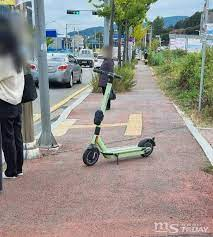guide_blocks: (124, 111, 143, 136), (52, 117, 77, 135)
kick_board: (83, 69, 155, 166)
kick_body: (106, 147, 138, 160)
kick_handler: (92, 68, 122, 82)
kick_neck: (93, 86, 112, 141)
kick_wheel: (138, 137, 155, 157), (82, 146, 99, 165)
